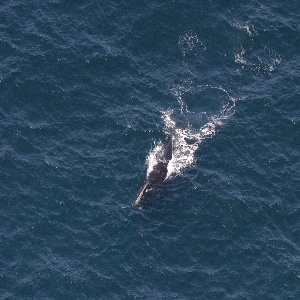cetacean: (132, 122, 185, 208)
